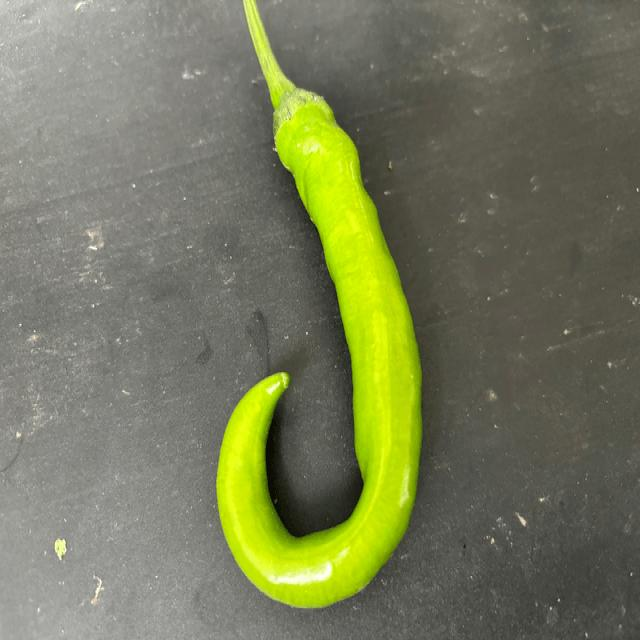chili: (215, 86, 424, 612)
